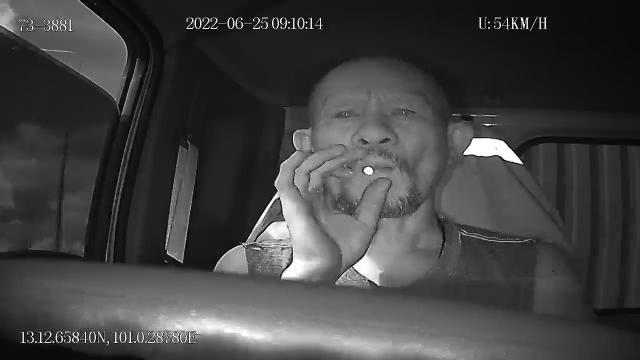SafeDriving: (383, 96, 425, 127), (326, 99, 367, 126)
Smoking: (364, 165, 374, 175)
